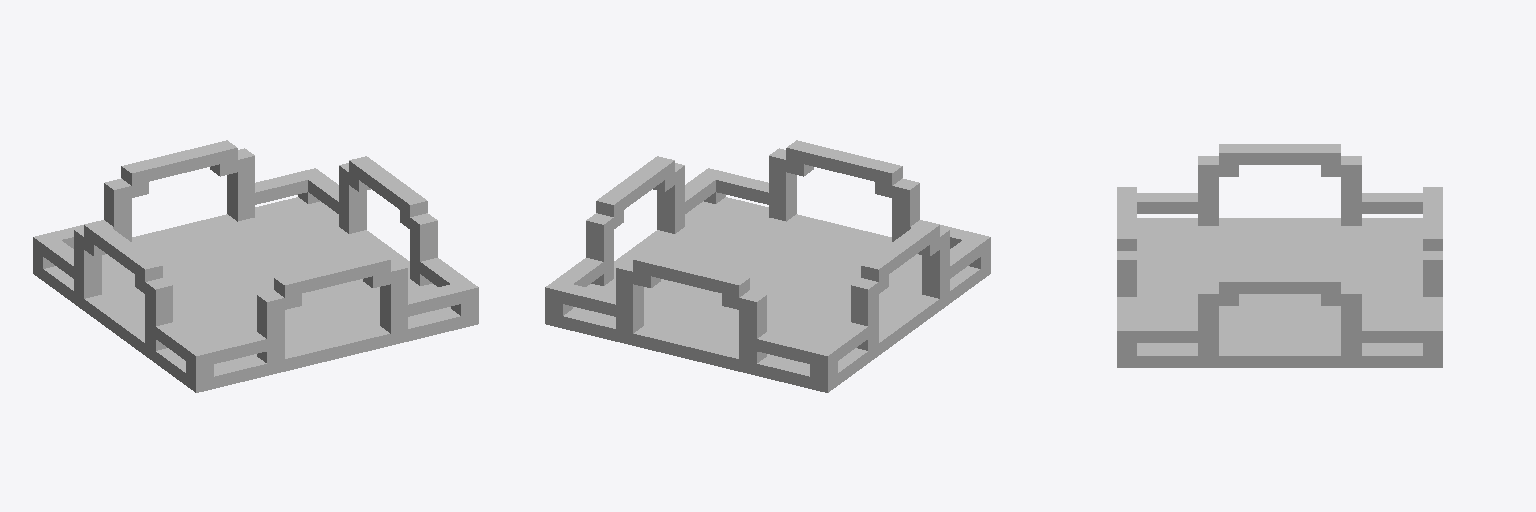
The model's file is Garden Colored.obj.
The picture shows the model from 3 angles: view 1: azimuth 30°, elevation 25°; view 2: azimuth 150°, elevation 25°; view 3: azimuth 270°, elevation 25°; orthographic projection.
Parts seen in each view (by area): view 1: Garden Colored; view 2: Garden Colored; view 3: Garden Colored.
Part boxes in pixels (x1,y1,x2,y2): Garden Colored: (33, 140, 478, 392); Garden Colored: (545, 140, 990, 392); Garden Colored: (1117, 144, 1442, 367).
Bounding box in the file's own units: 1.5 × 0.4375 × 1.5.